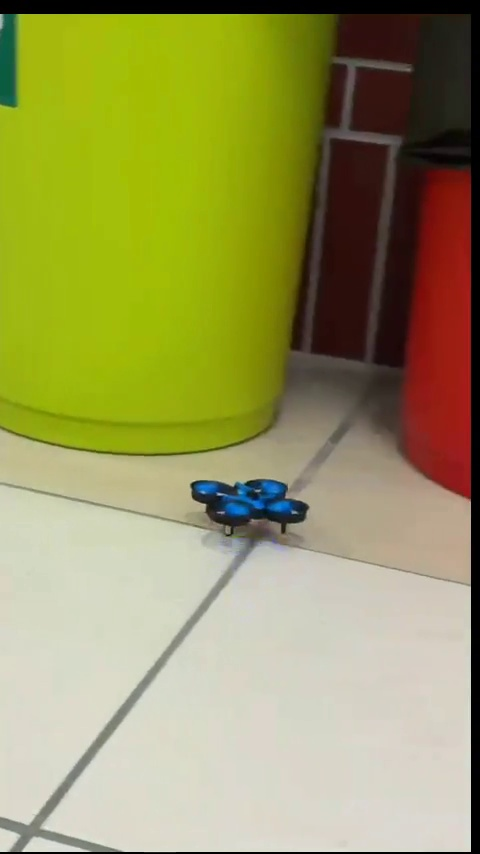drone: (193, 477, 304, 532)
